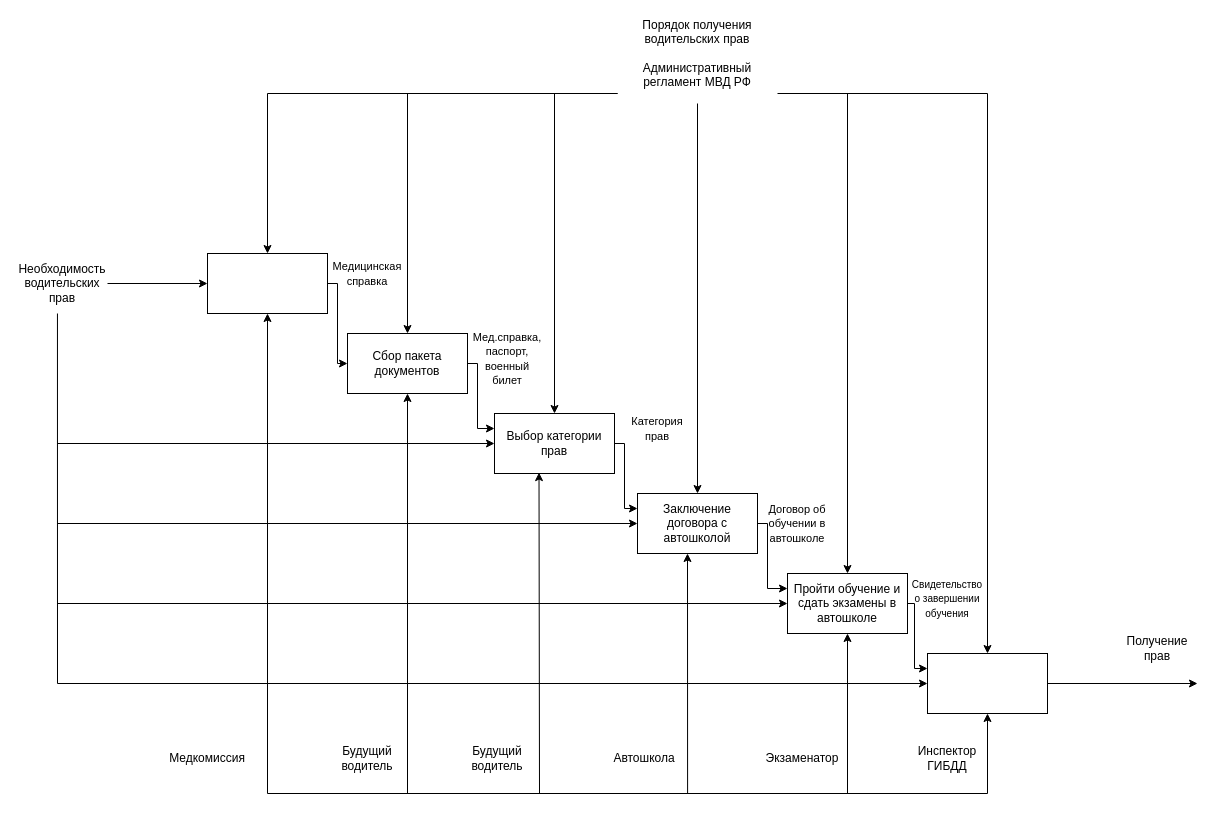
This 1223x819 diagram has some shape labels left out. The shapes that lost their labels are listed below. From the top down, each one's centre as x and y in pixels, then its label:
(267,283): Прохождение медкомиссии
(987,683): Сдача экзамена в ГИБДД (теория и вождение)
